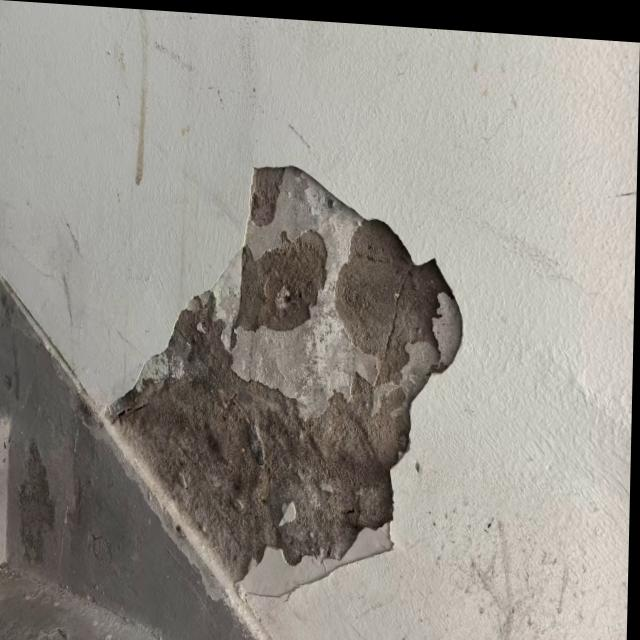spalling: (106, 154, 483, 603)
